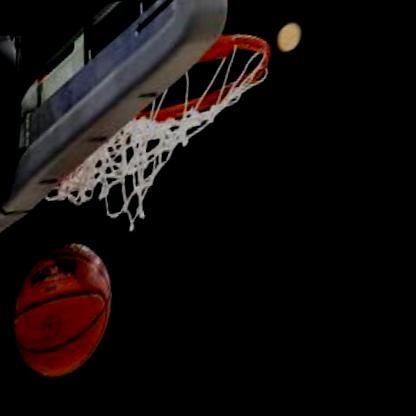basketball: (4, 231, 142, 390)
rim: (109, 27, 287, 146)
